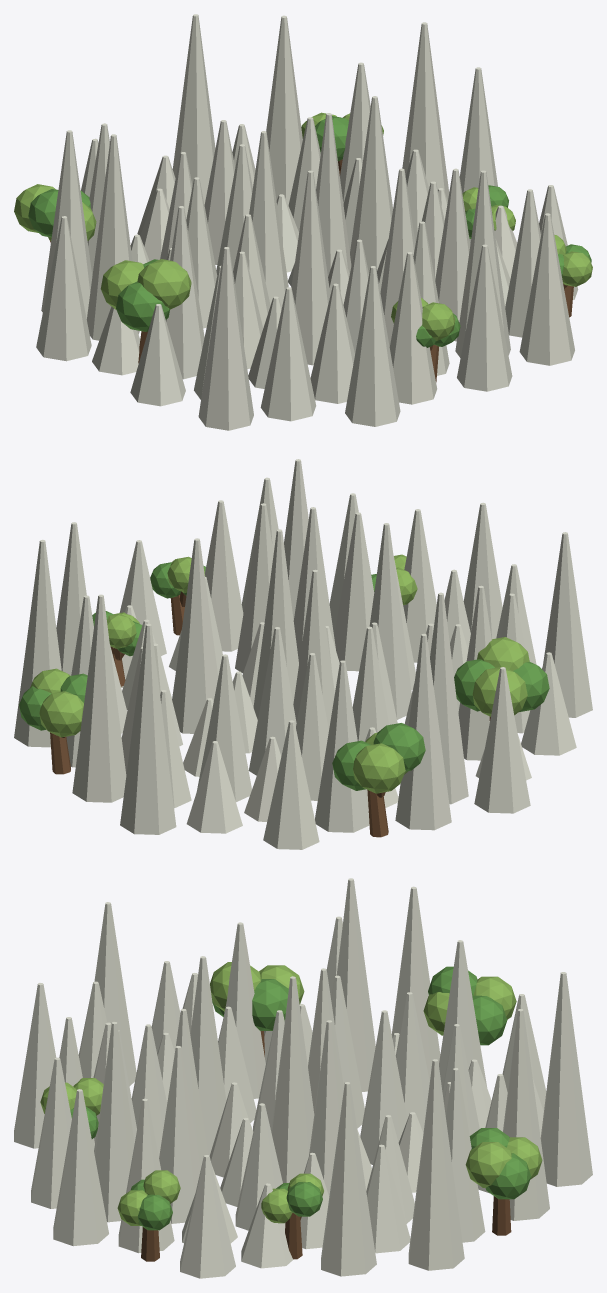
The model's file is FEATURE_TSINGY.fbx.
3 views of the same model, one above another, from view 1: azimuth 30°, elevation 25°; view 2: azimuth 150°, elevation 25°; view 3: azimuth 270°, elevation 25° (orthographic). The views are drawn at different scales.
Visible parts, largest first — view 1: Eroded_spire.059, Eroded_spire.054, Eroded_spire.057, Eroded_spire.049, Eroded_spire.056, Eroded_spire.012, Eroded_spire.046, Eroded_spire.013, Eroded_spire.050, Eroded_spire.058, Eroded_spire.041, Eroded_spire.035 (+44 smaller); view 2: Eroded_spire.058, Eroded_spire.050, Eroded_spire.048, Eroded_spire.013, Eroded_spire.059, Eroded_spire.056, Eroded_spire.040, Eroded_spire.053, Eroded_spire.055, Eroded_spire.035, Eroded_spire.012, Eroded_spire.028 (+50 smaller); view 3: Eroded_spire.055, Eroded_spire.058, Eroded_spire.047, Eroded_spire.005, Eroded_spire.057, Eroded_spire.036, Eroded_spire.050, Eroded_spire.035, Eroded_spire.023, Eroded_spire.052, Eroded_spire.012, Eroded_spire.054 (+55 smaller).
Part boxes in pixels (box(x1,y1,x2,y2)): Eroded_spire.059: box(198, 247, 253, 430); Eroded_spire.054: box(345, 266, 400, 426); Eroded_spire.057: box(519, 213, 574, 365); Eroded_spire.049: box(457, 244, 512, 391); Eroded_spire.056: box(36, 216, 91, 361); Eroded_spire.012: box(291, 170, 330, 365); Eroded_spire.046: box(260, 287, 316, 421); Eroded_spire.013: box(350, 96, 392, 273); Eroded_spire.050: box(266, 15, 302, 205); Eroded_spire.058: box(172, 14, 215, 204); Eroded_spire.041: box(389, 252, 437, 404); Eroded_spire.035: box(86, 134, 139, 340); Eroded_spire.058: box(120, 624, 176, 834); Eroded_spire.050: box(72, 594, 126, 802); Eroded_spire.048: box(395, 633, 451, 830); Eroded_spire.013: box(172, 538, 218, 733); Eroded_spire.059: box(543, 532, 592, 717); Eroded_spire.056: box(474, 667, 530, 813); Eroded_spire.040: box(315, 660, 369, 832); Eroded_spire.053: box(263, 720, 319, 849); Eroded_spire.055: box(14, 539, 61, 747); Eroded_spire.035: box(430, 592, 468, 804); Eroded_spire.012: box(369, 523, 411, 719); Eroded_spire.028: box(334, 512, 374, 671); Eroded_spire.055: box(408, 1059, 464, 1270); Eroded_spire.058: box(540, 972, 592, 1186); Eroded_spire.047: box(321, 1082, 376, 1276); Eroded_spire.005: box(271, 976, 314, 1182); Eroded_spire.057: box(53, 1089, 108, 1246); Eroded_spire.036: box(94, 1022, 134, 1222); Eroded_spire.050: box(503, 1009, 549, 1220); Eroded_spire.035: box(336, 878, 375, 1091); Eroded_spire.023: box(159, 1046, 200, 1223); Eroded_spire.052: box(180, 1155, 235, 1278); Eroded_spire.012: box(190, 956, 226, 1155); Eroded_spire.054: box(14, 983, 56, 1148).
Size of the model in its own units: 143 by 56.74 by 147.
